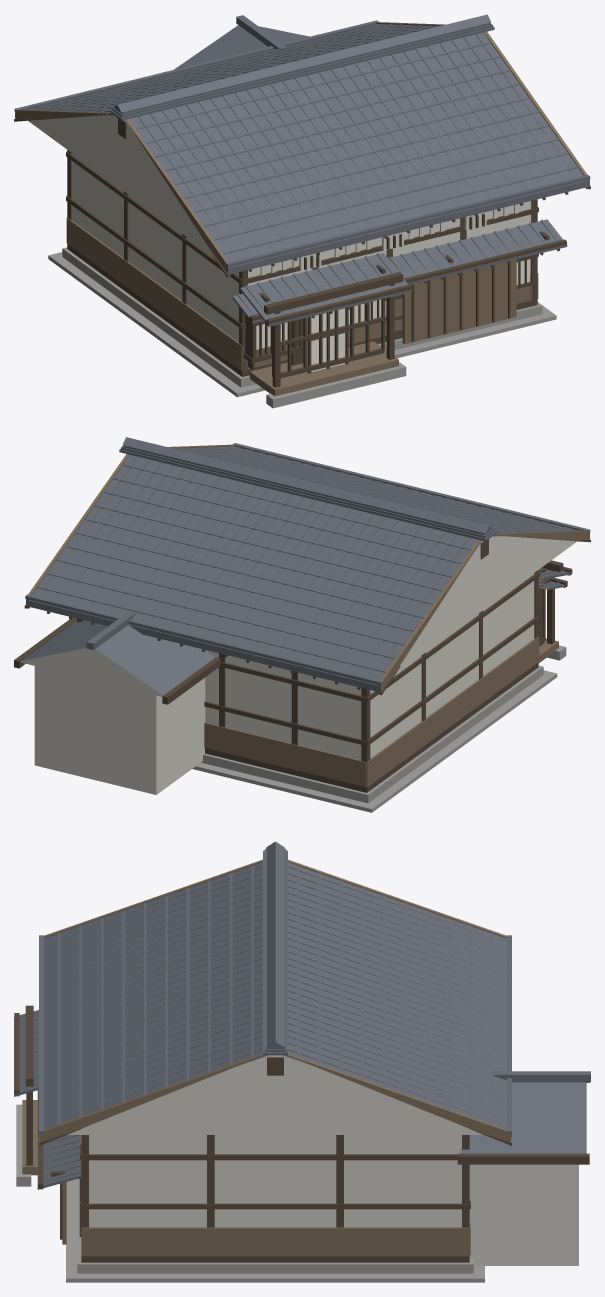
Rendered from pilot_residence_01.glb.
3 views of the same model, one above another, from view 1: azimuth 30°, elevation 25°; view 2: azimuth 150°, elevation 25°; view 3: azimuth 270°, elevation 25° (orthographic). The views are drawn at different scales.
Visible parts, largest first — view 1: pilot_residence_01; view 2: pilot_residence_01; view 3: pilot_residence_01.
Part boxes in pixels (<box>): pilot_residence_01: <box>14,14,590,408</box>; pilot_residence_01: <box>14,437,590,812</box>; pilot_residence_01: <box>14,841,590,1282</box>.
Size of the model in its own units: 9.6 by 5.64 by 11.59.
